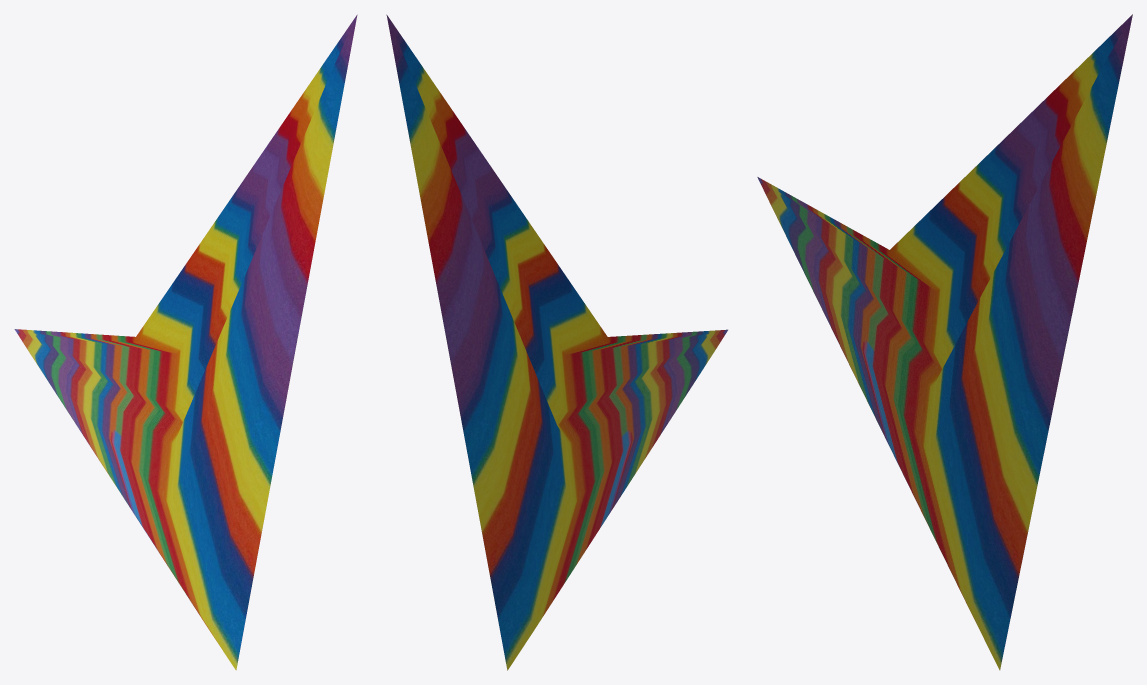
The picture shows the model from 3 angles, left to right: view 1: azimuth 30°, elevation 25°; view 2: azimuth 150°, elevation 25°; view 3: azimuth 330°, elevation 25°; orthographic projection. The views are drawn at different scales.
Visible parts, largest first — view 1: Origami_Model_62; view 2: Origami_Model_62; view 3: Origami_Model_62.
Part boxes in pixels (left/top/right/bottom): Origami_Model_62: left=14, top=14, right=357, bottom=670; Origami_Model_62: left=386, top=14, right=727, bottom=670; Origami_Model_62: left=757, top=14, right=1132, bottom=670.
Size of the model in its own units: 0.8 by 1.4 by 0.003.
1 material, 1 textured.
